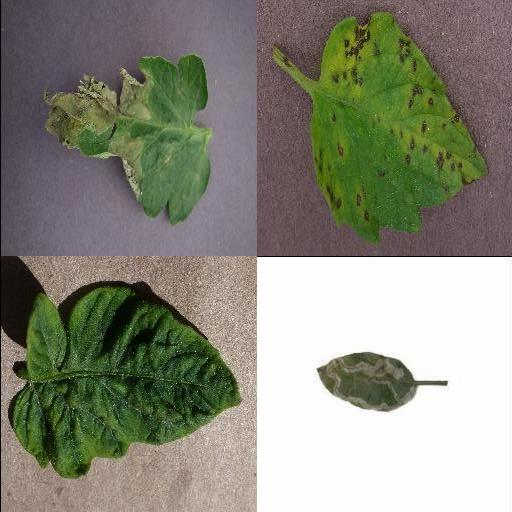Late Blight: (40, 54, 214, 228)
Leaf Miner: (316, 351, 417, 409)
Septoria: (308, 11, 490, 245)
Yellow Leaf Curl Virus: (11, 286, 243, 480)
